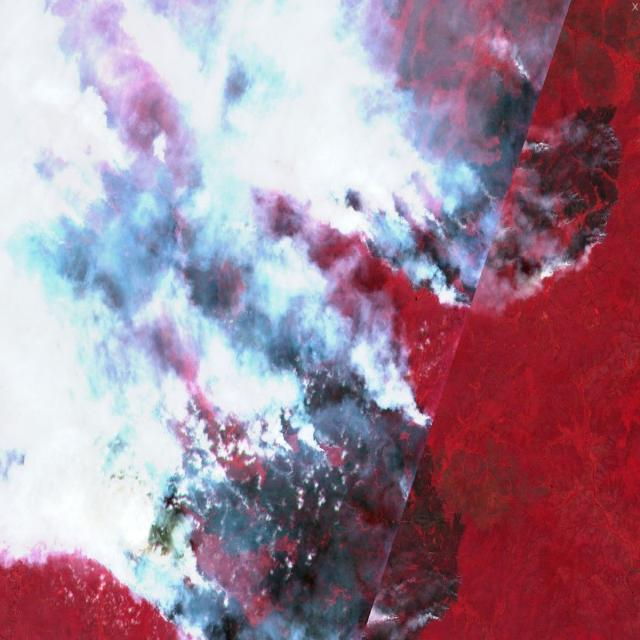fire: (0, 50, 625, 640)
